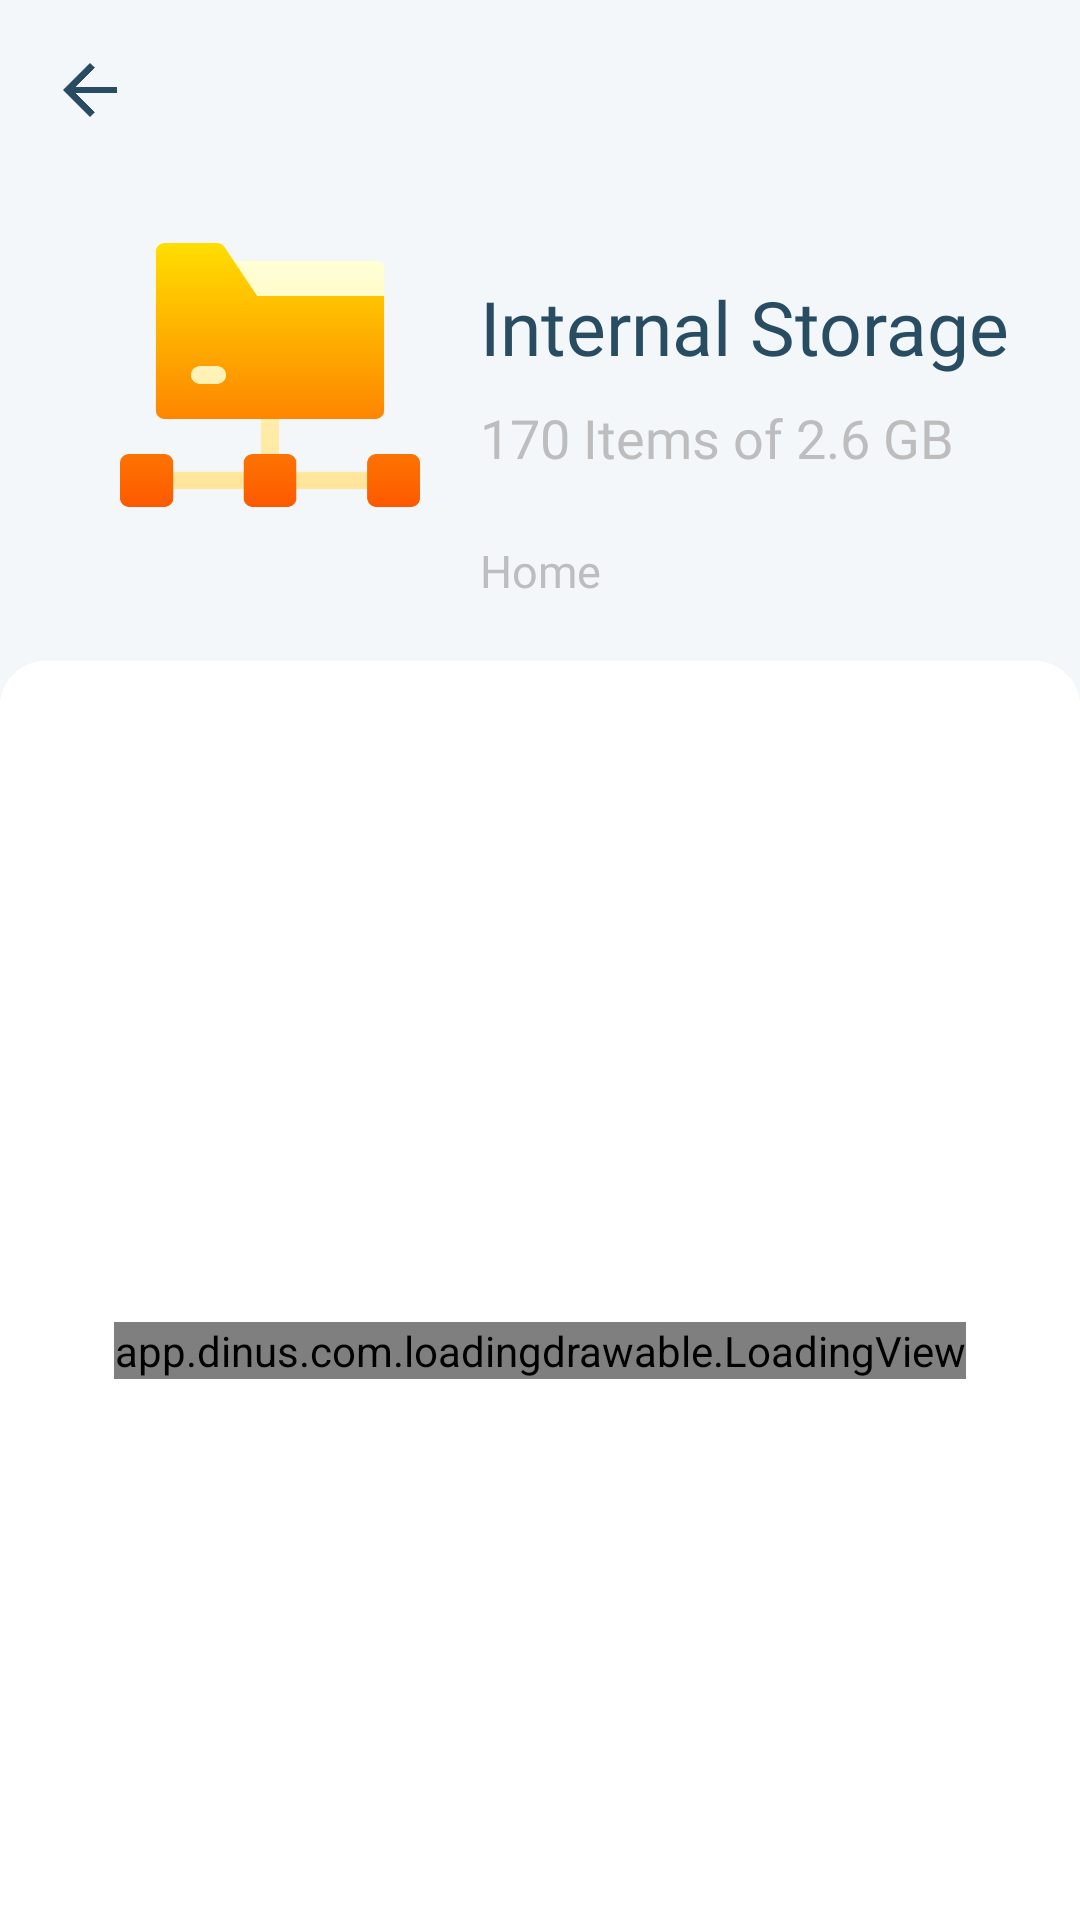

Named icons in this screenshot (1080px×1920px) and their bounding boxes, (x1, y1, x2, y2):
arrow: (63, 63, 117, 117)
folder: (120, 243, 420, 507)
